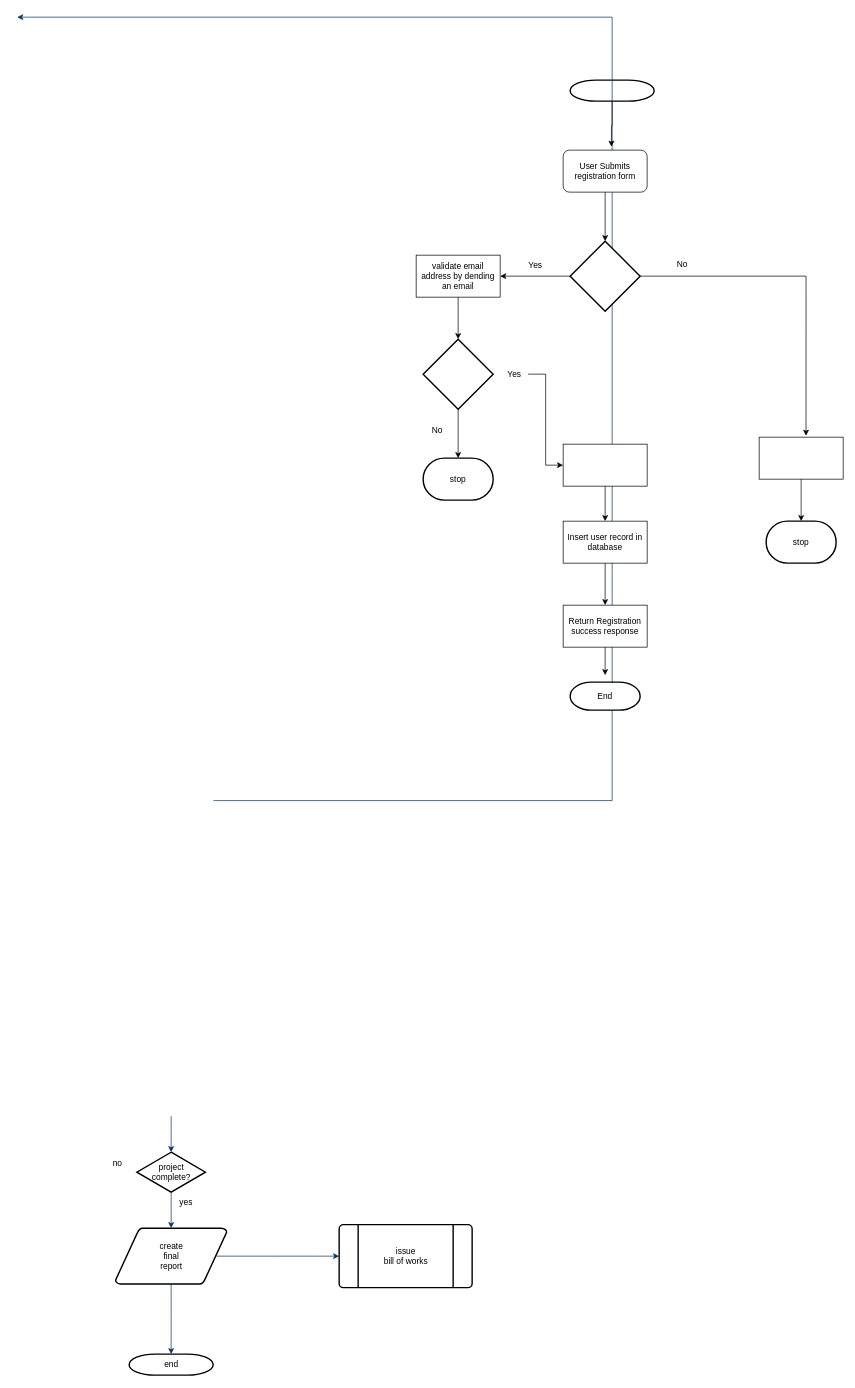
Image size: 855x1388. Some labels were removed from this diagram. The box of each missing label's shape, as (x1, y1, x2, y2) in pixels:
Are all fields valid?: (569, 240, 640, 312)
Generate unique user ID: (562, 443, 647, 486)
Is email valid?: (422, 338, 493, 410)
start: (569, 79, 654, 102)
Terminate the process and advise user to try again: (758, 436, 843, 479)
